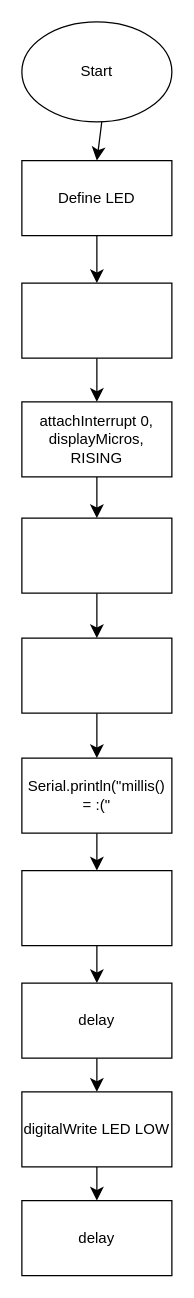
Image size: 194x1298. Some labels were removed from this diagram. The shapes that lost their labels are listed below. From the top down, each one's centre as x and y in pixels, then its label:
the point at 96,320: Set pinMode output
the point at 96,555: attachInterrupt 1, displayMillis, RISING
the point at 96,675: Serial.println("micros() = :)"
the point at 96,907: digitalWrite LED HIGH
